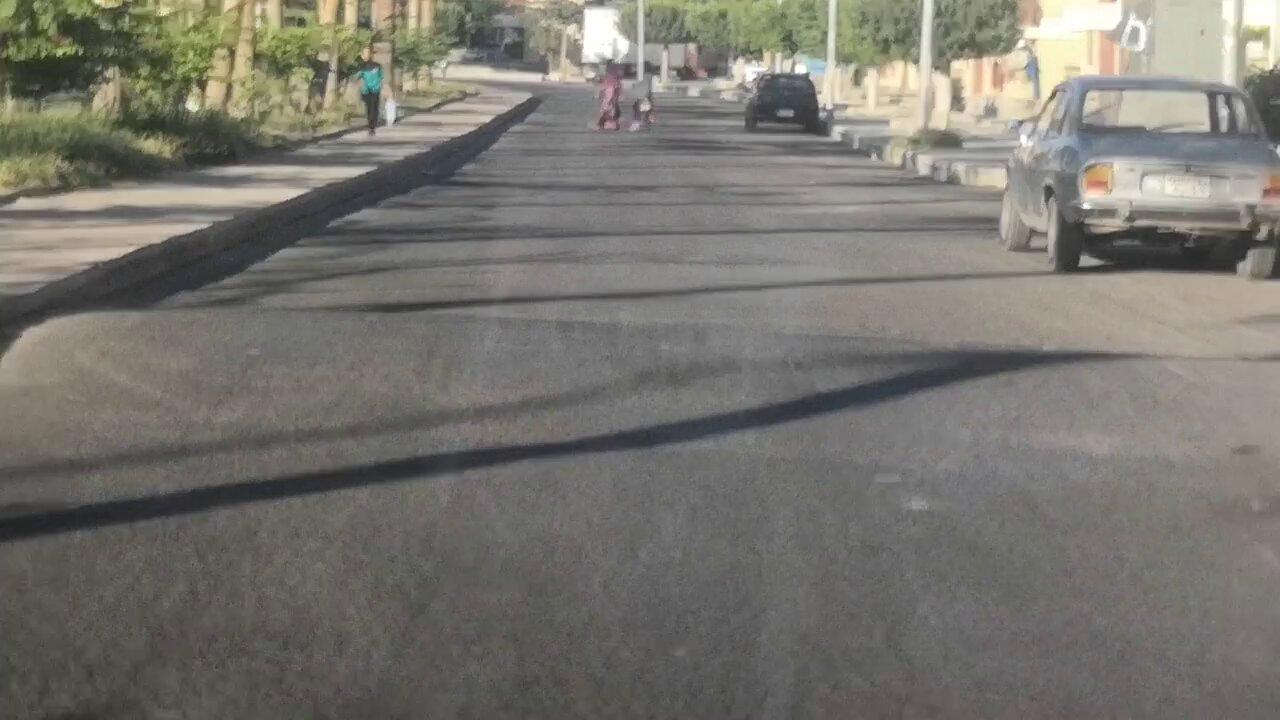Pothole: (0, 309, 1279, 490)
